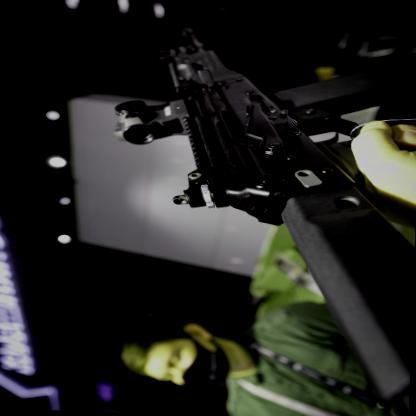rifle: (81, 6, 412, 385)
